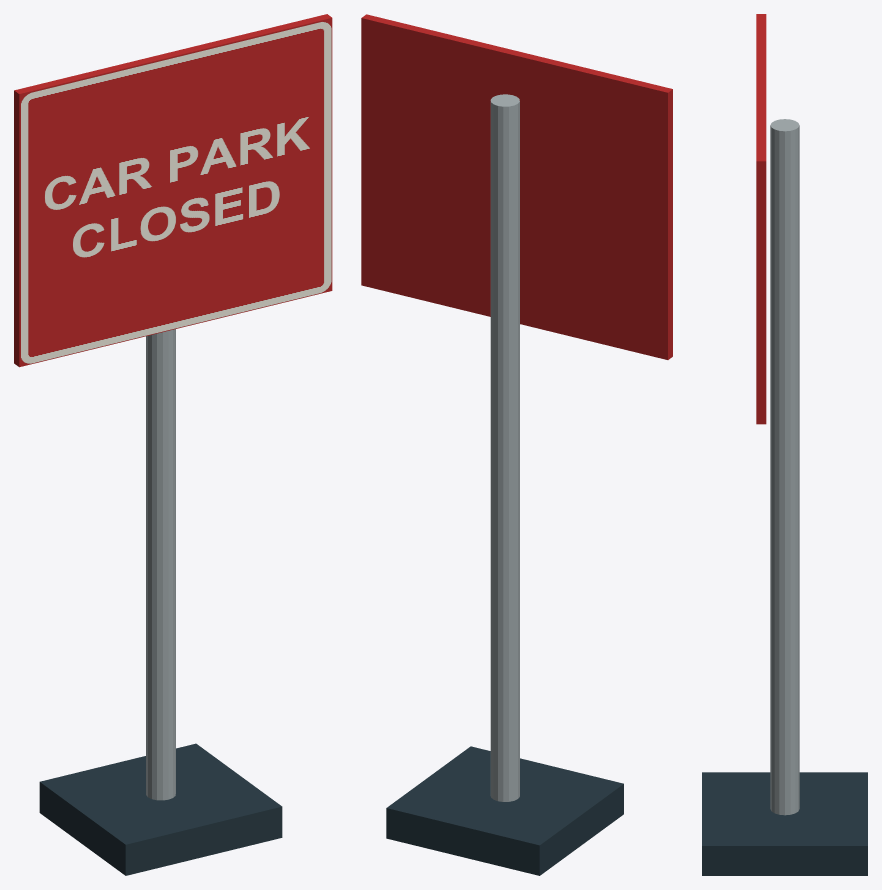
Rendered from scendance-plan-car-park-closed.glb.
The picture shows the model from 3 angles, left to right: view 1: azimuth 30°, elevation 25°; view 2: azimuth 150°, elevation 25°; view 3: azimuth 270°, elevation 25°; orthographic projection. The views are drawn at different scales.
Bounding box in the file's own units: 0.84 × 2 × 0.4.
Materials: 4 (1 with a texture image).
